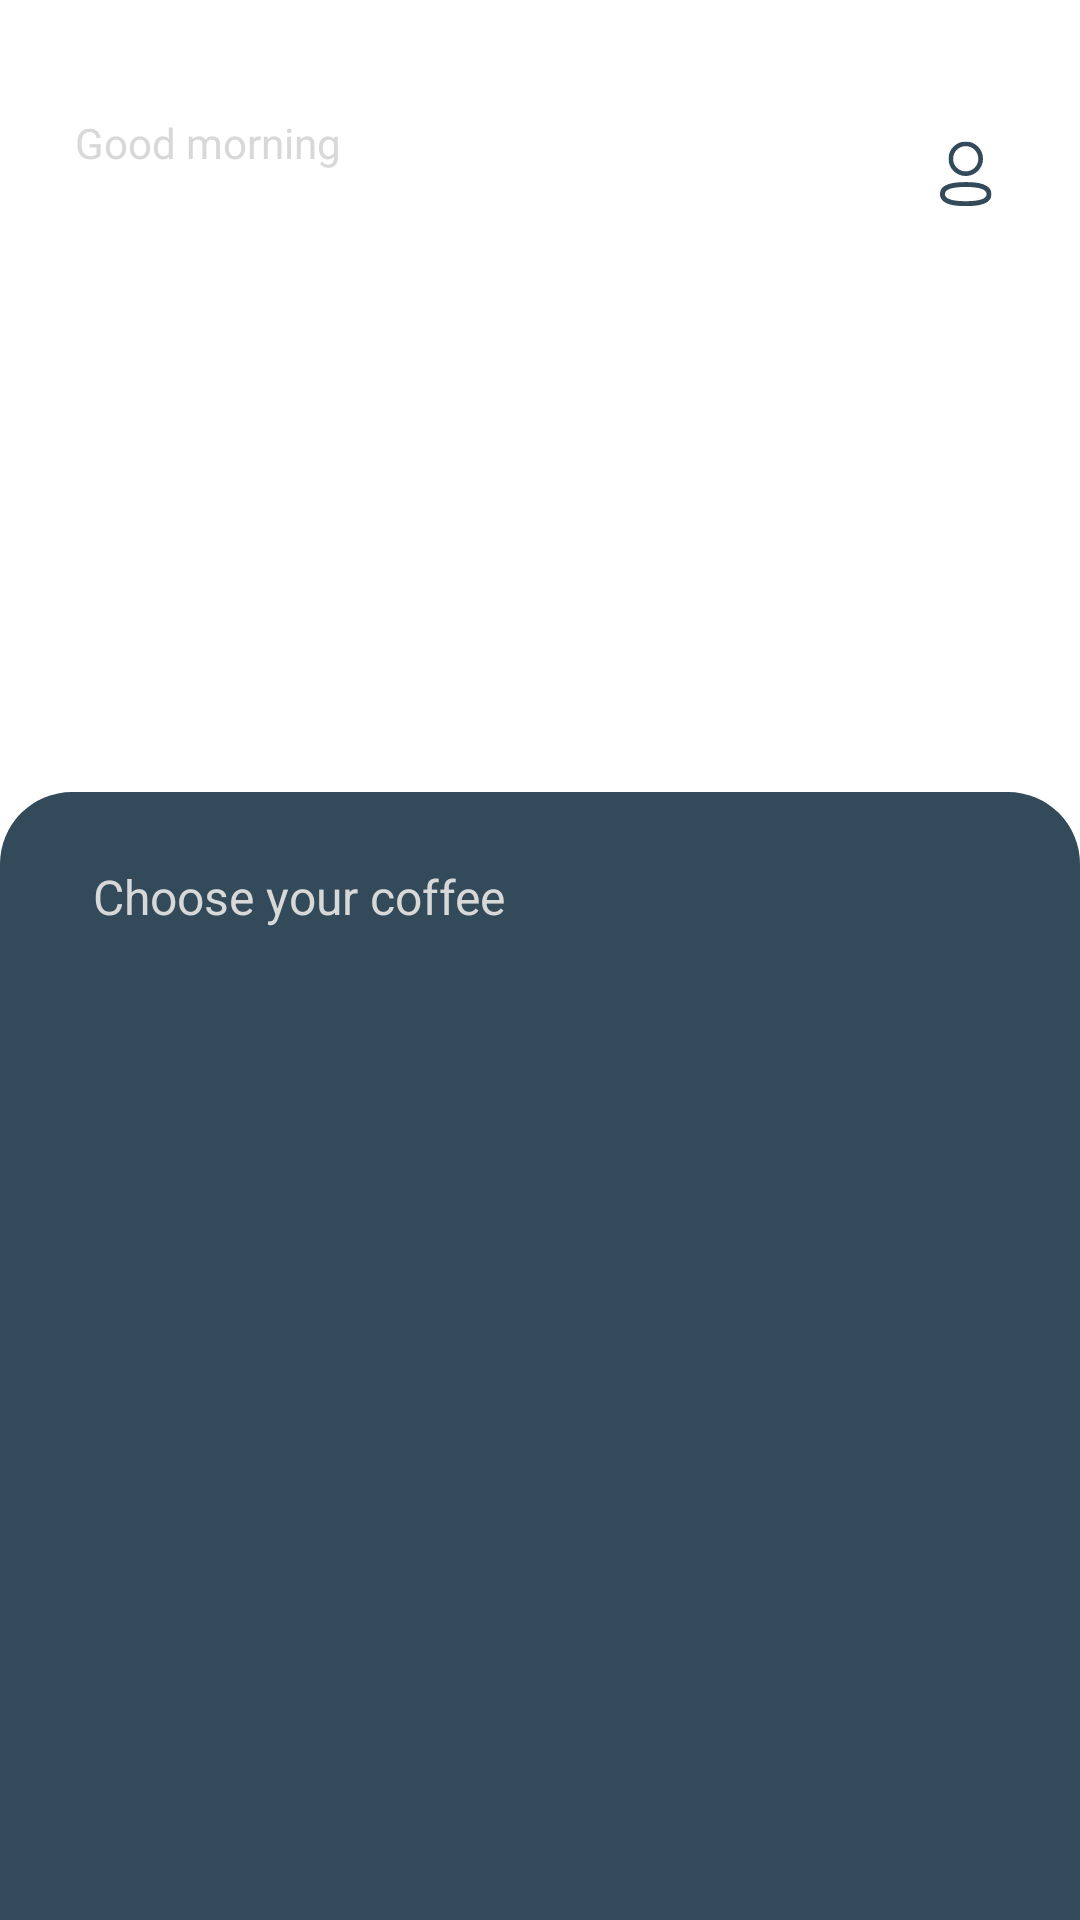

Screen size 1080px x 1920px. Icon name, then its center in pixels as point (x, y):
profile: point (966, 173)
